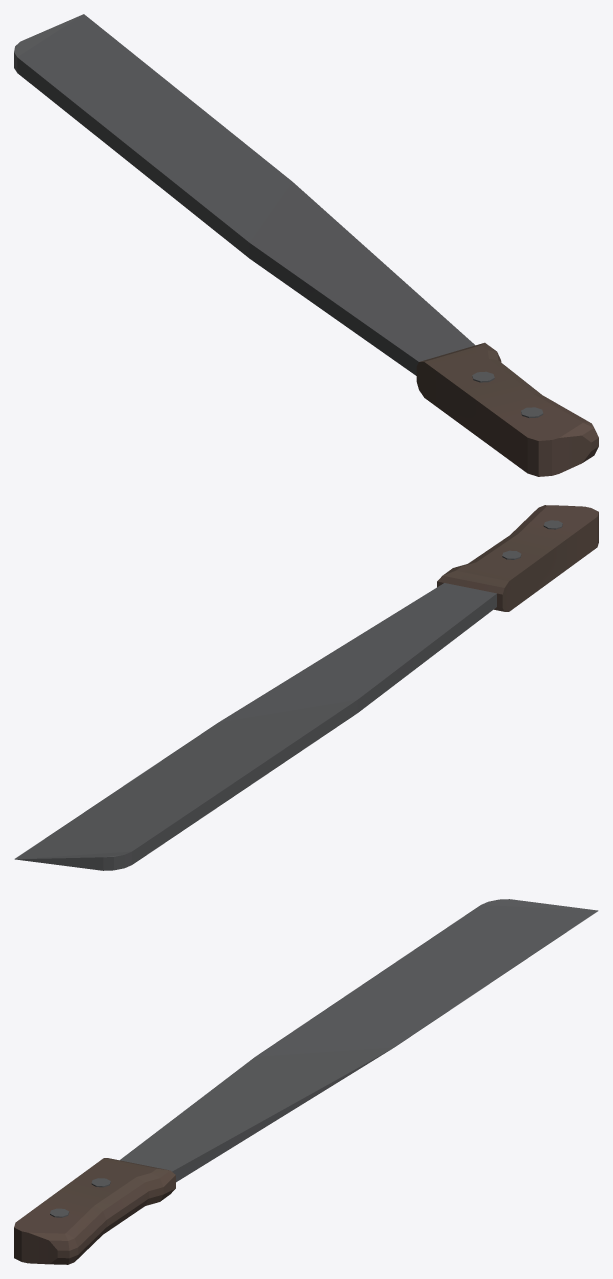
Rendered from machete.glb.
The picture shows the model from 3 angles, top to bottom: view 1: azimuth 30°, elevation 25°; view 2: azimuth 150°, elevation 25°; view 3: azimuth 330°, elevation 25°; orthographic projection. The views are drawn at different scales.
Parts seen in each view (by area): view 1: Machete; view 2: Machete; view 3: Machete.
Part boxes in pixels (box(x1,y1,x2,y2)): Machete: box(14, 14, 598, 476); Machete: box(14, 505, 598, 870); Machete: box(14, 899, 598, 1264).
Bounding box in the file's own units: 0.1689 × 0.052 × 1.4.
1 material, 1 textured.
